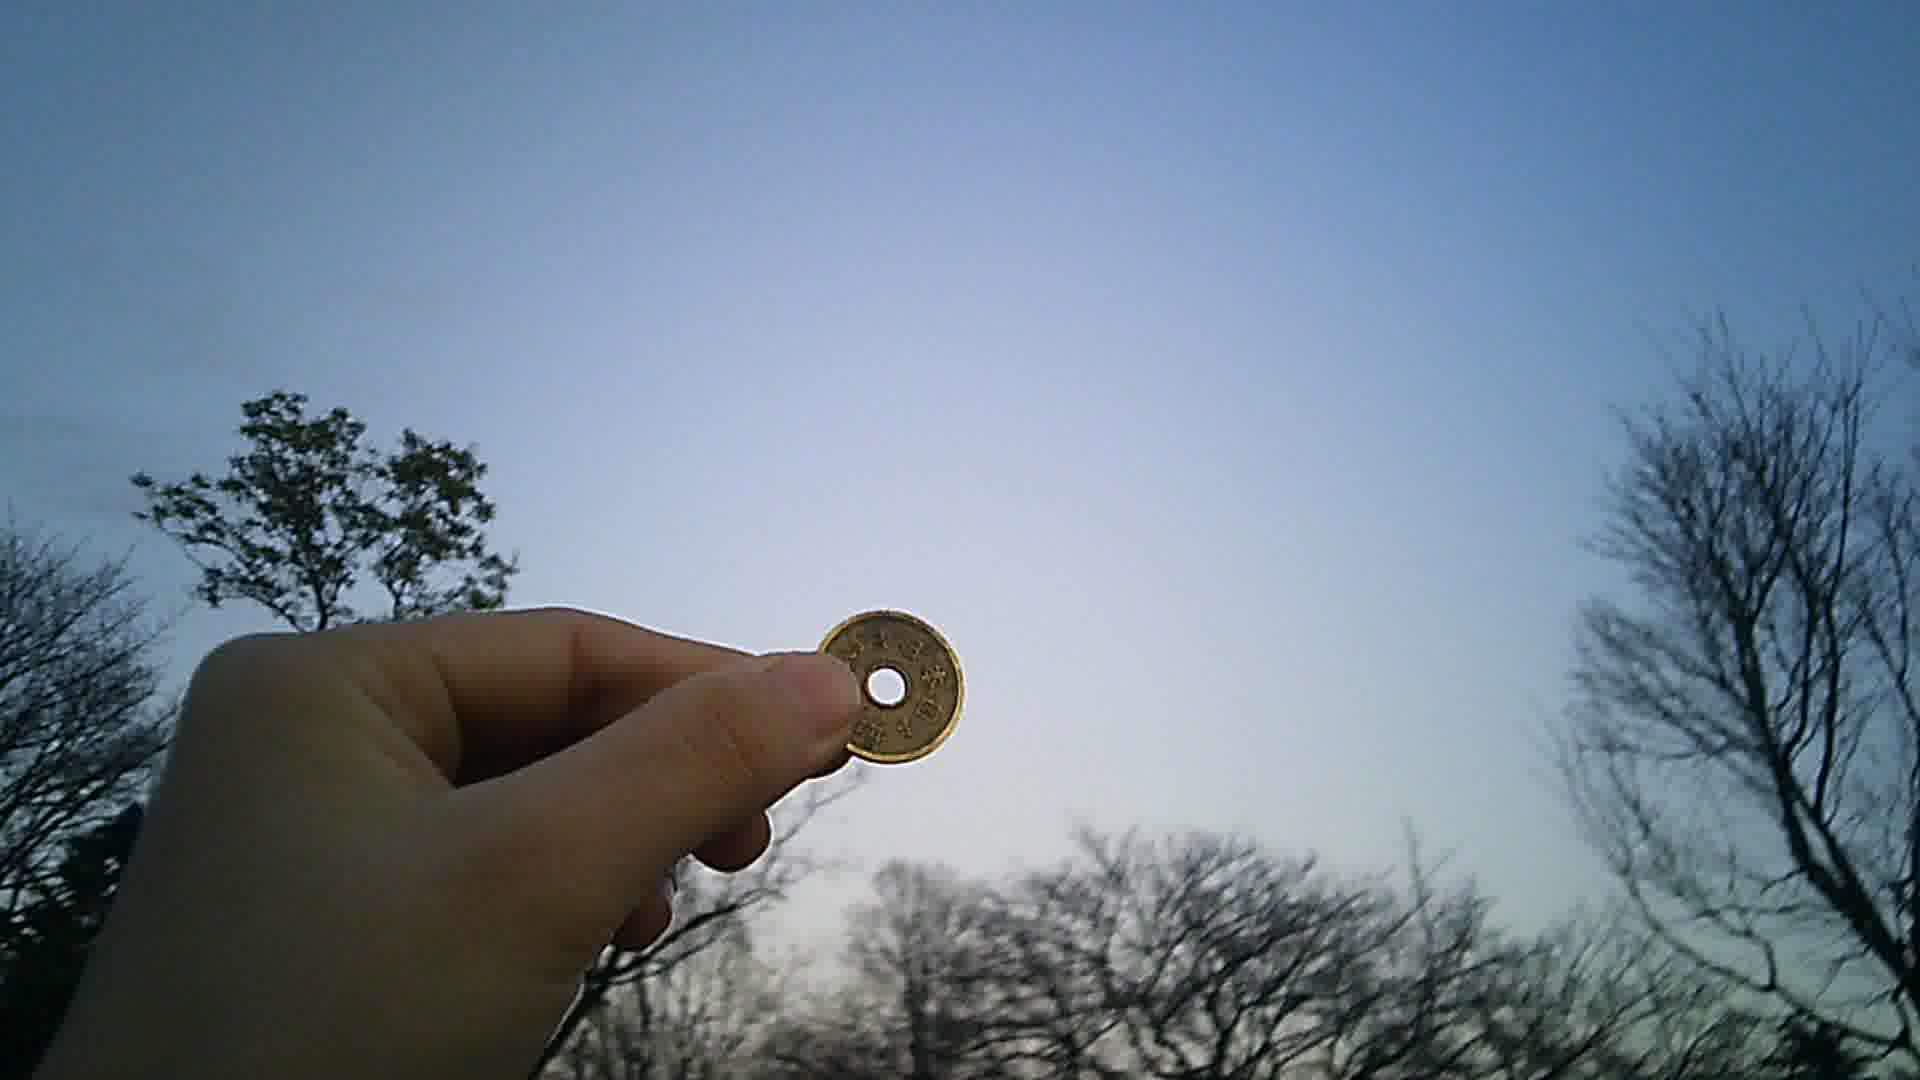5 Yen: (807, 607, 971, 783)
